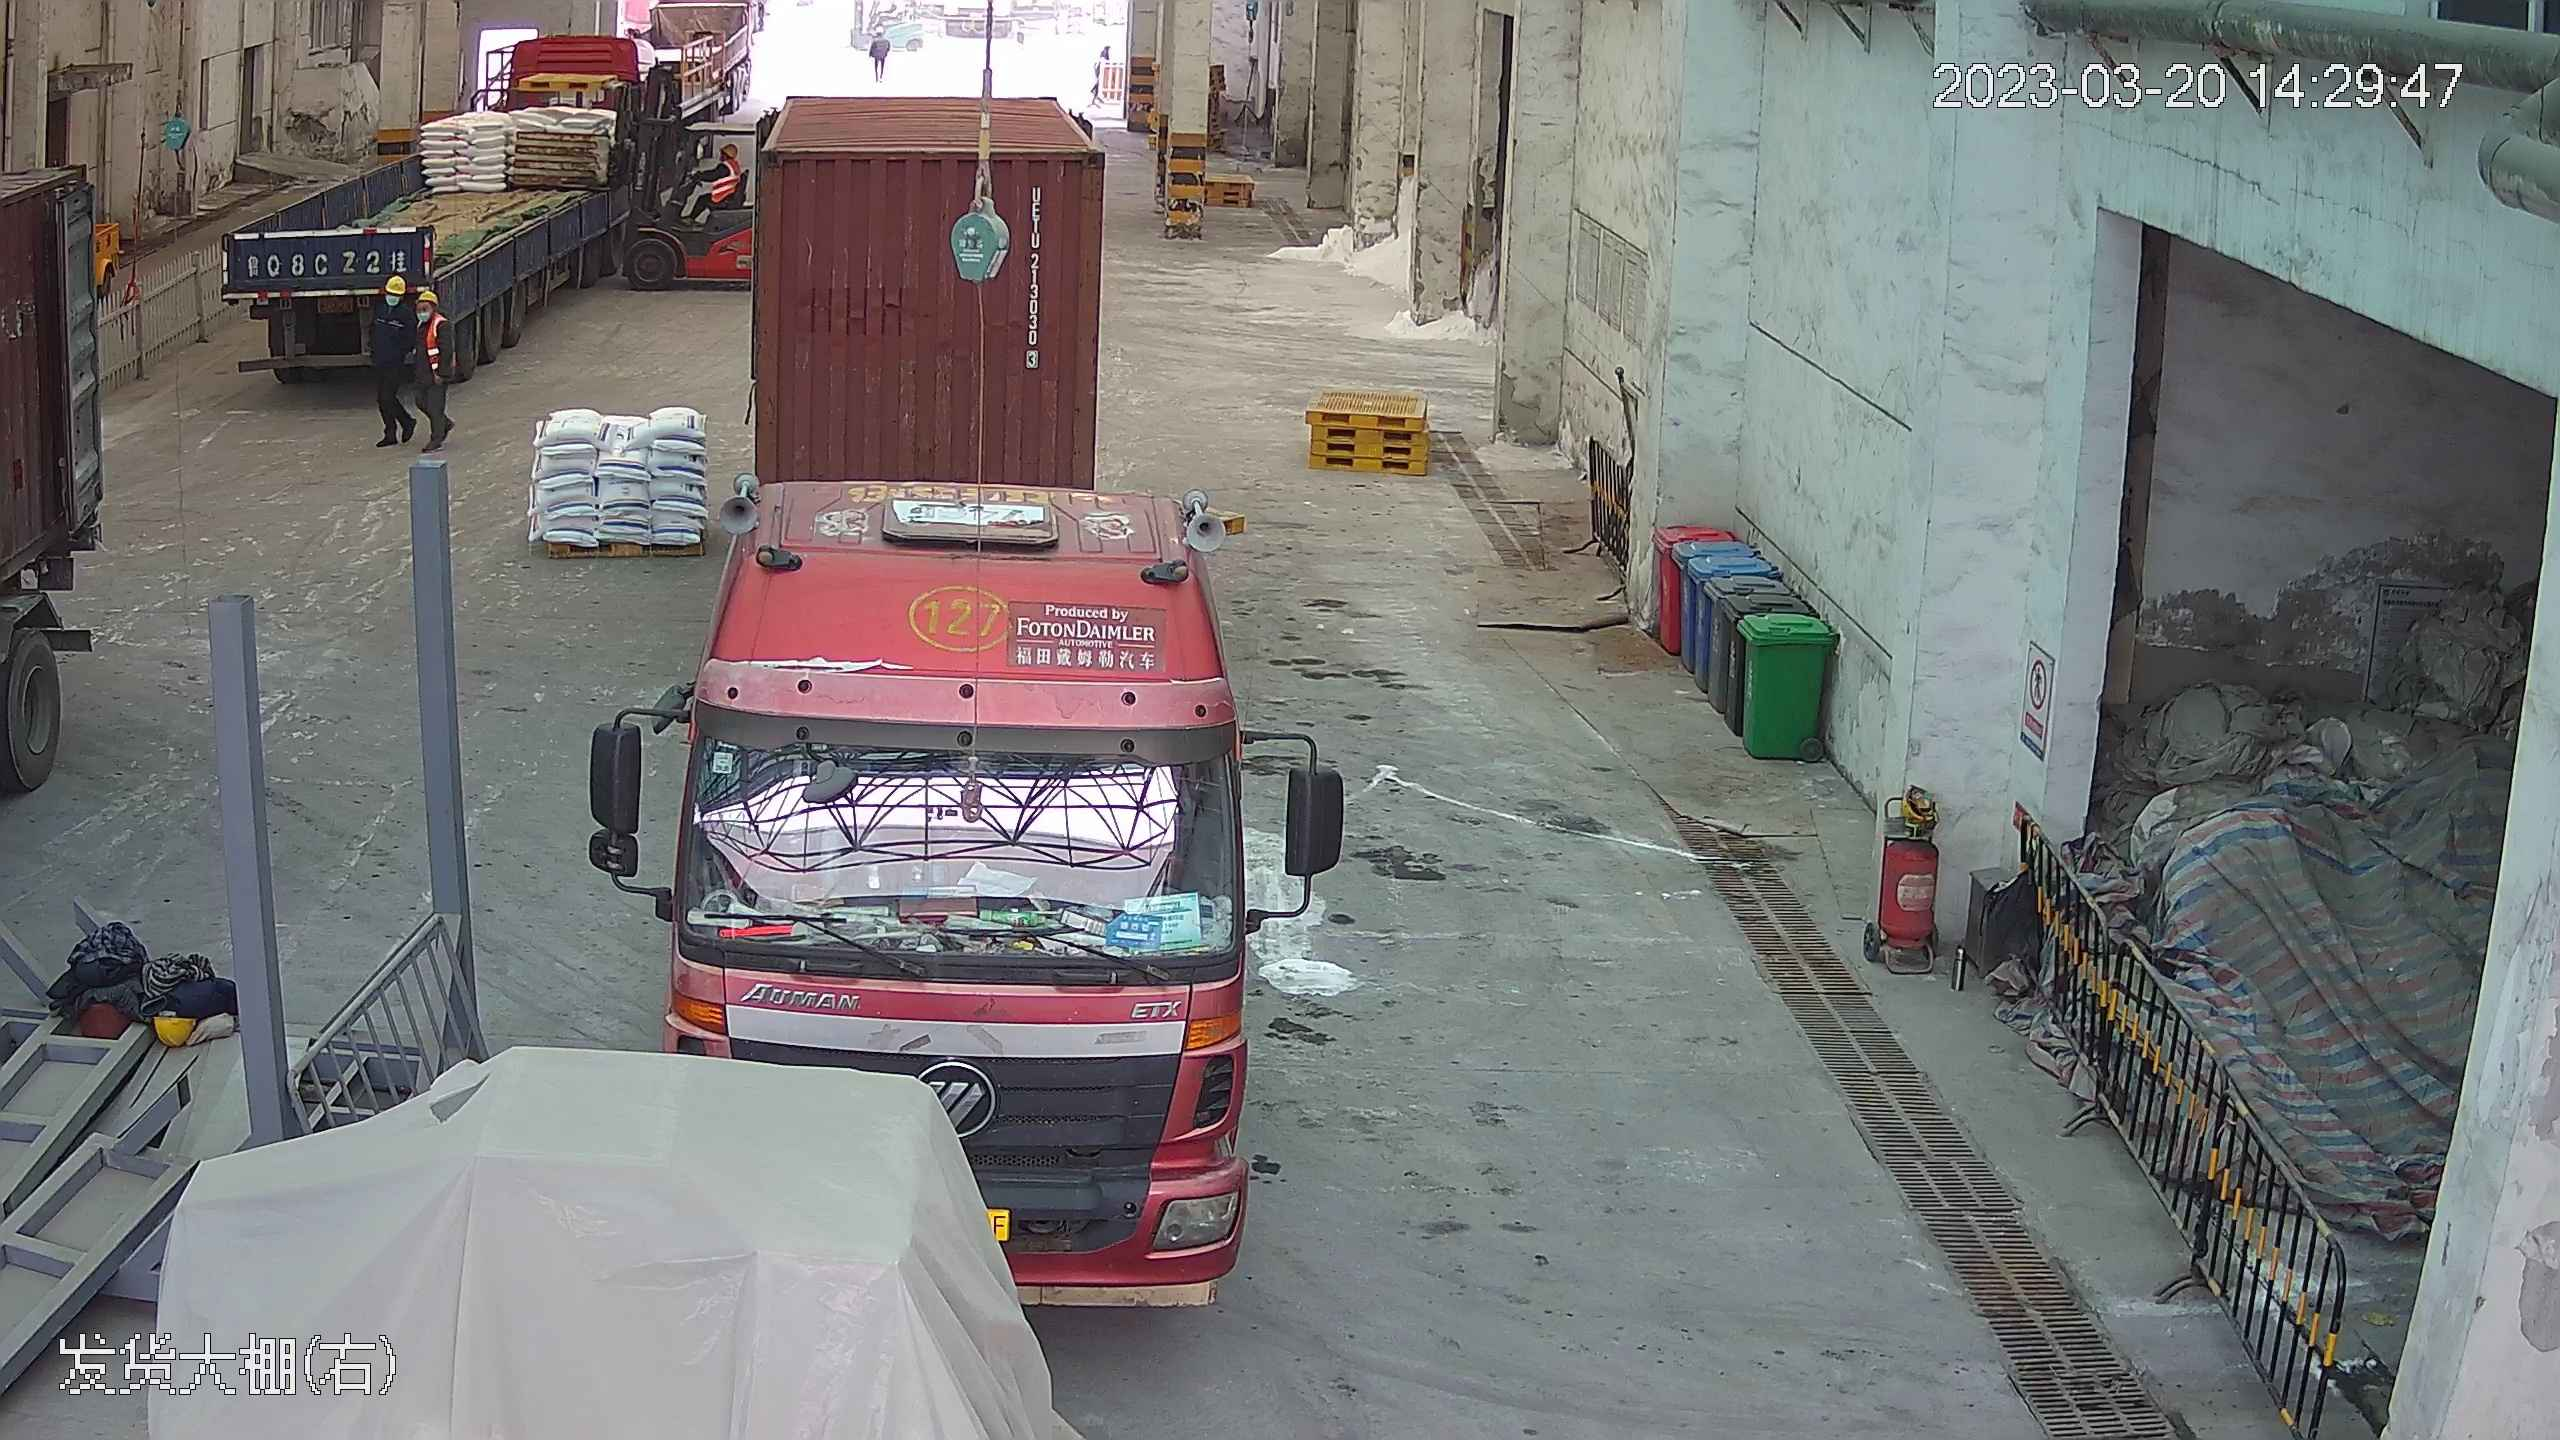head: (378, 276, 431, 335), (413, 291, 456, 353), (707, 141, 740, 183)
helmet: (385, 274, 411, 293), (415, 290, 438, 306), (721, 142, 740, 159)
people: (364, 276, 418, 449), (412, 290, 460, 459), (687, 140, 744, 232), (870, 24, 890, 81)
truck: (649, 27, 1258, 1311), (231, 34, 652, 381)
